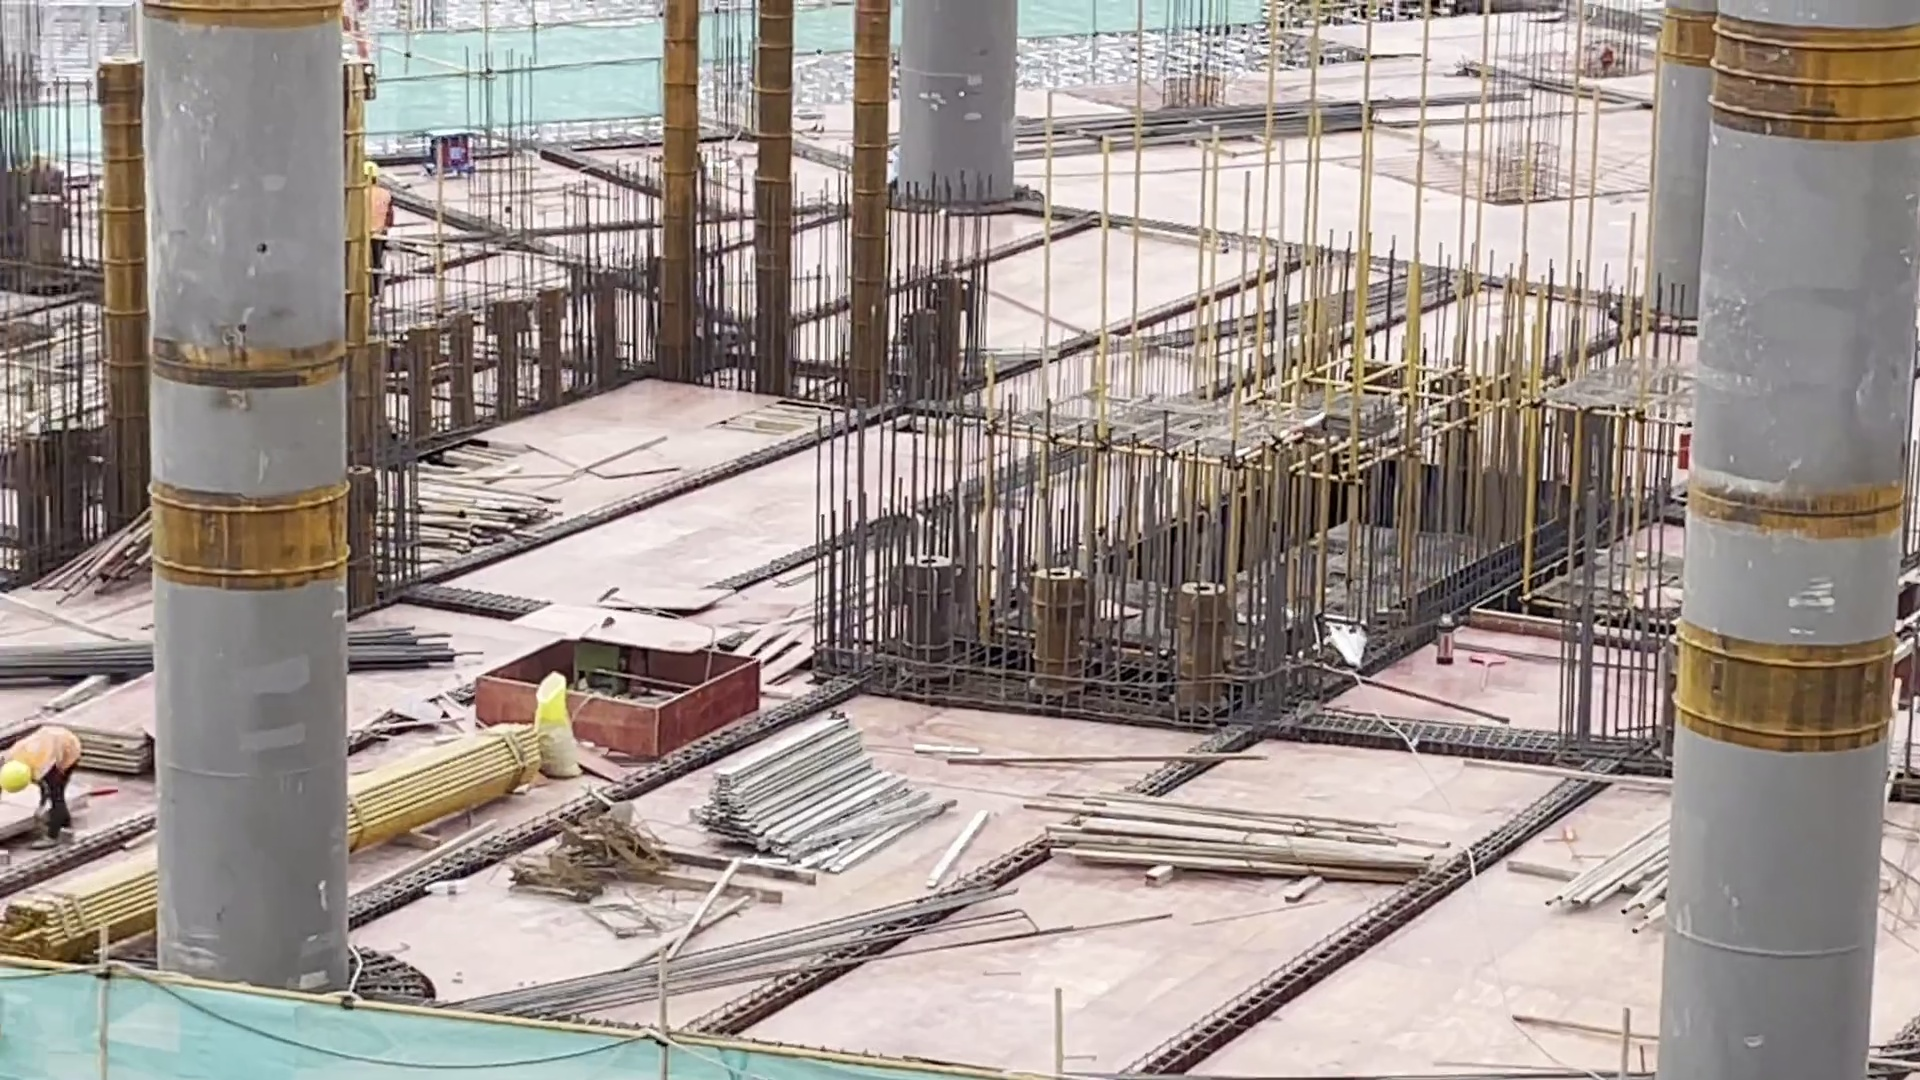board: (62, 661, 155, 768)
helmet: (1, 760, 34, 794)
person: (2, 714, 84, 836)
vest: (9, 725, 81, 776)
wood: (1033, 786, 1451, 910)
